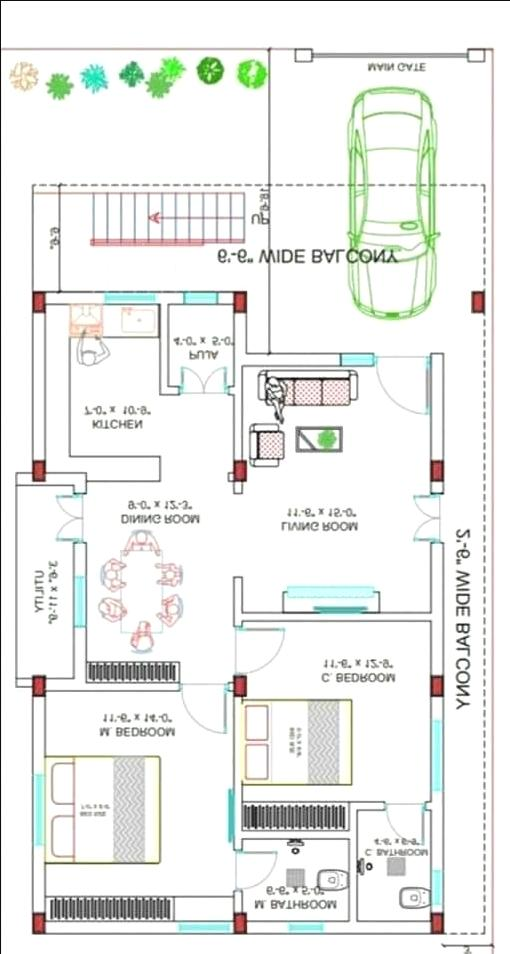Blueprint: (24, 282, 488, 943)
wall: (29, 310, 48, 462), (237, 609, 433, 623), (427, 537, 446, 678), (43, 918, 180, 936), (231, 310, 247, 463), (43, 676, 184, 692), (319, 918, 432, 935), (231, 693, 243, 852), (428, 350, 444, 462), (345, 798, 359, 924), (237, 351, 342, 367), (154, 302, 171, 400), (426, 788, 445, 872), (28, 842, 47, 914), (240, 828, 352, 840), (30, 694, 46, 777), (14, 469, 90, 486), (41, 288, 106, 306), (70, 624, 88, 682), (244, 918, 291, 936), (230, 574, 244, 628), (70, 538, 88, 578), (150, 289, 186, 307), (426, 692, 446, 723), (354, 799, 388, 812), (72, 472, 86, 494), (232, 888, 243, 914), (428, 480, 444, 497)
